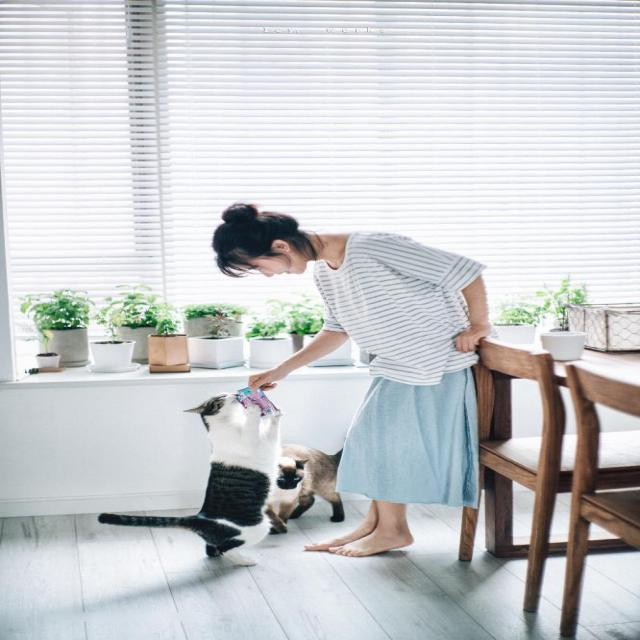Manusia: (175, 193, 519, 584)
